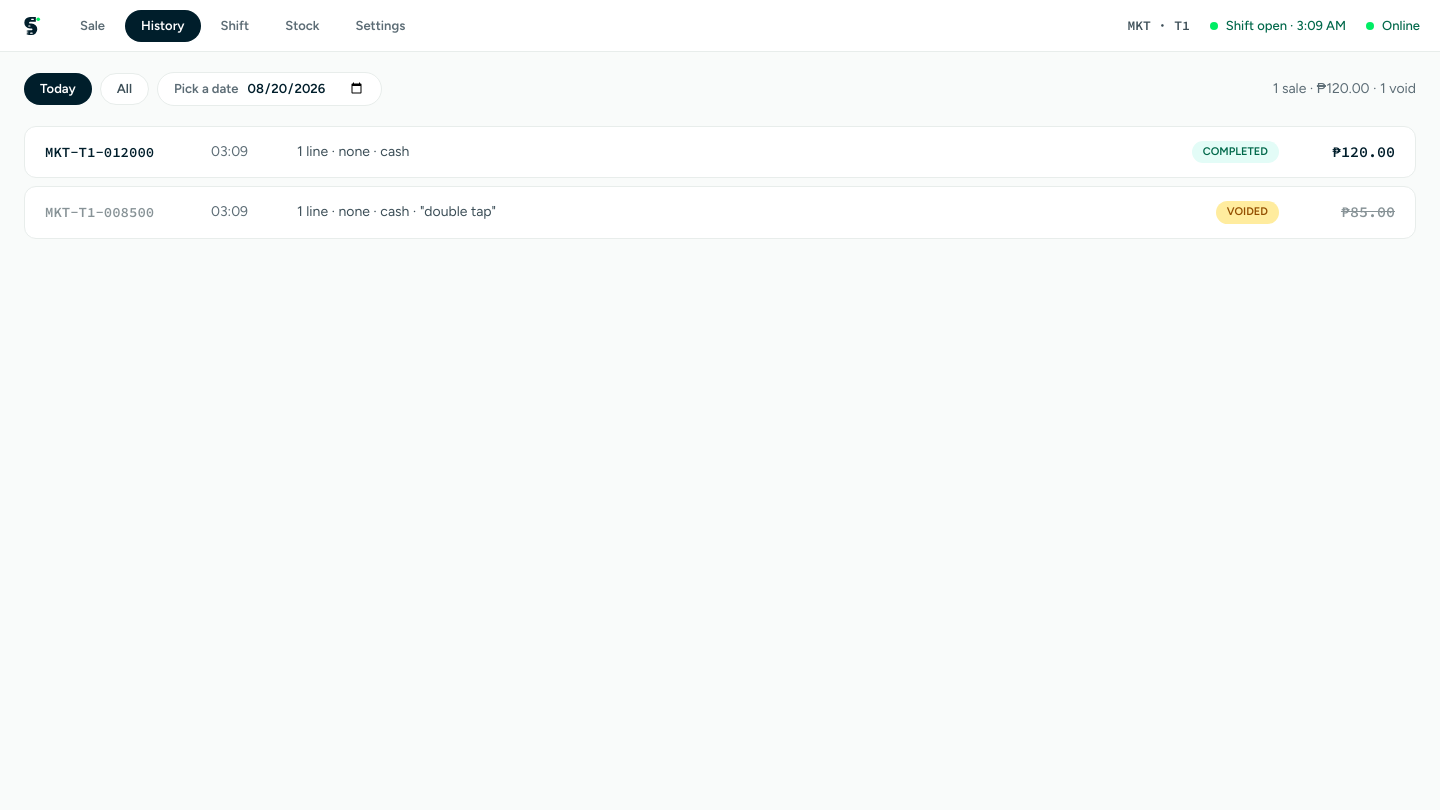
Test case: a voided sale offers neither void nor refund
The width and height of the screenshot is (1440, 810).
Click the button that starts with "MKT-T1-008500" at [100, 212], box 24,186 -> 1416,238
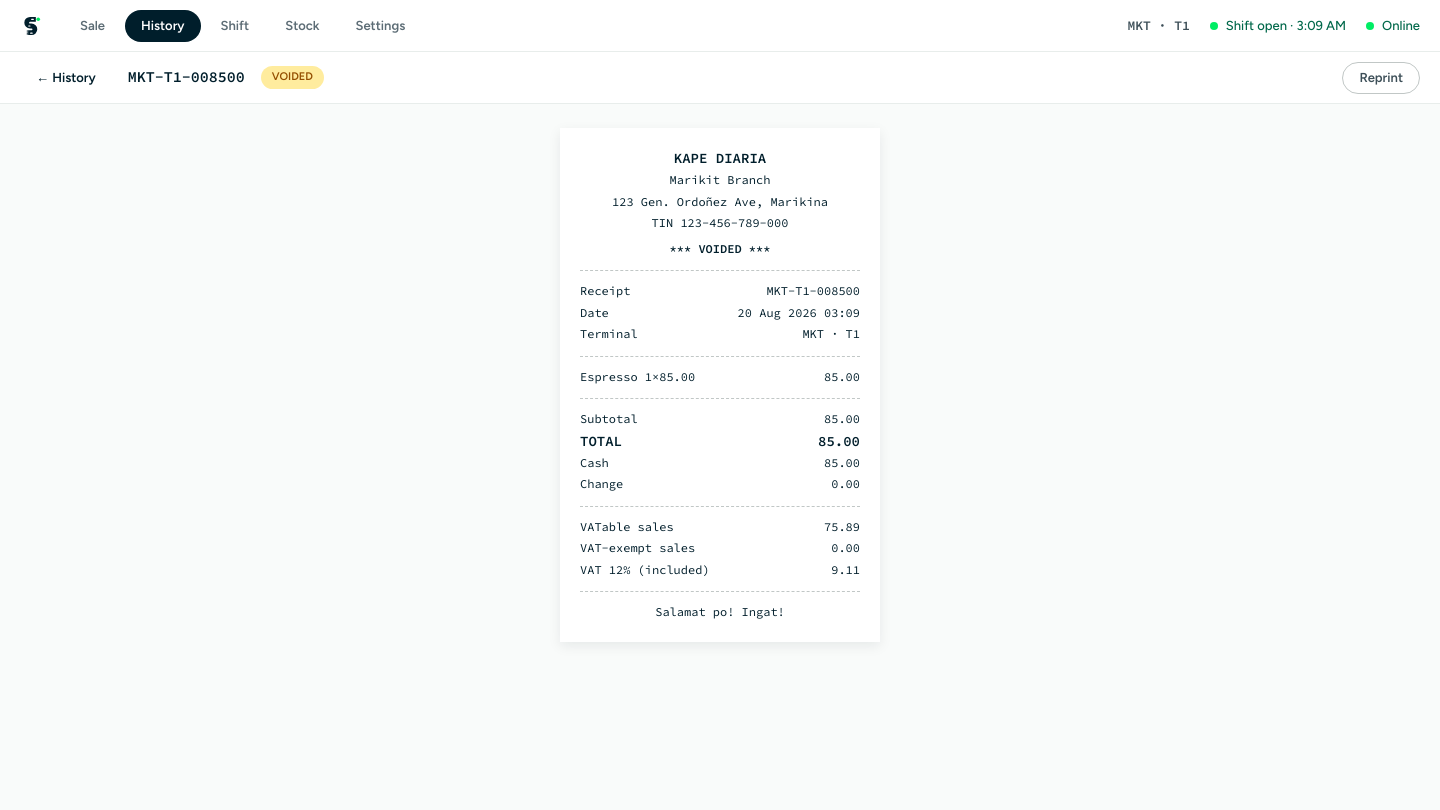
expect the button "Reprint" is shown: met, box 1342,62 -> 1420,94
